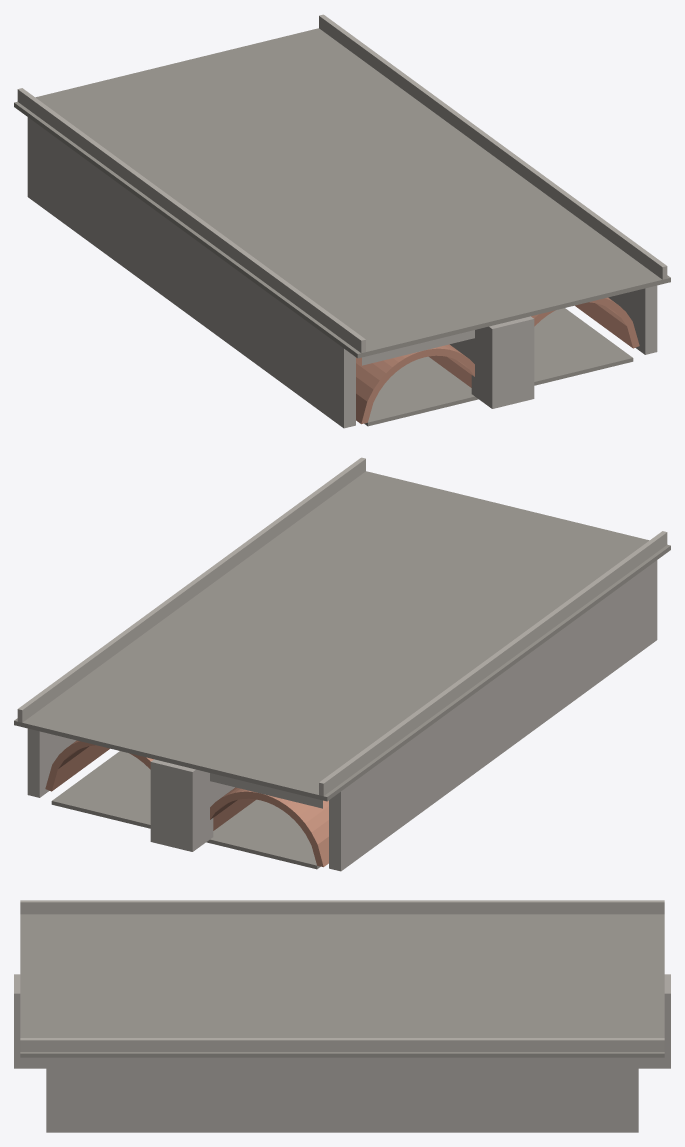
Rendered from cp_eaglevale_bridge.glb.
The picture shows the model from 3 angles, top to bottom: view 1: azimuth 30°, elevation 25°; view 2: azimuth 150°, elevation 25°; view 3: azimuth 270°, elevation 25°; orthographic projection. The views are drawn at different scales.
Parts seen in each view (by area): view 1: EaglevaleBridge; view 2: EaglevaleBridge; view 3: EaglevaleBridge.
Part boxes in pixels (<box>): EaglevaleBridge: <box>14,14,670,428</box>; EaglevaleBridge: <box>14,457,670,871</box>; EaglevaleBridge: <box>14,900,670,1132</box>.
Size of the model in its own units: 26.16 by 8.04 by 50.72.
